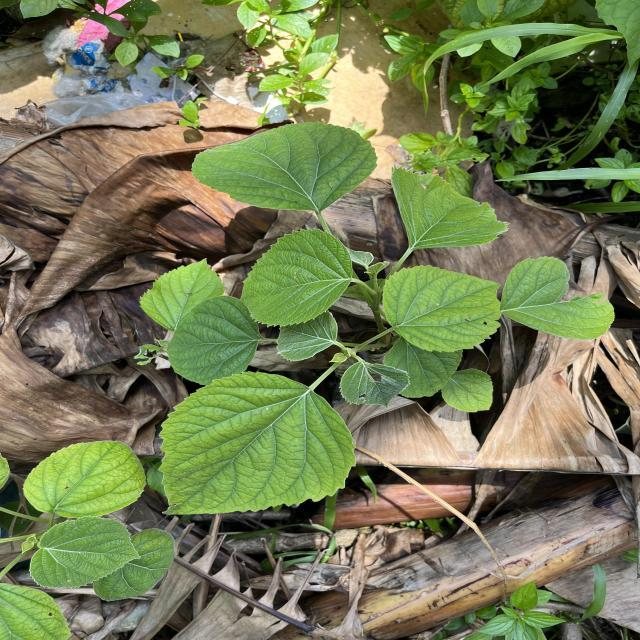Clerodendrum infortunatum: (157, 369, 358, 516), (190, 120, 378, 213), (240, 228, 355, 328), (382, 262, 502, 354), (20, 438, 148, 520), (389, 166, 512, 250), (167, 294, 262, 386), (29, 514, 142, 590), (138, 258, 226, 330), (440, 368, 494, 413)
